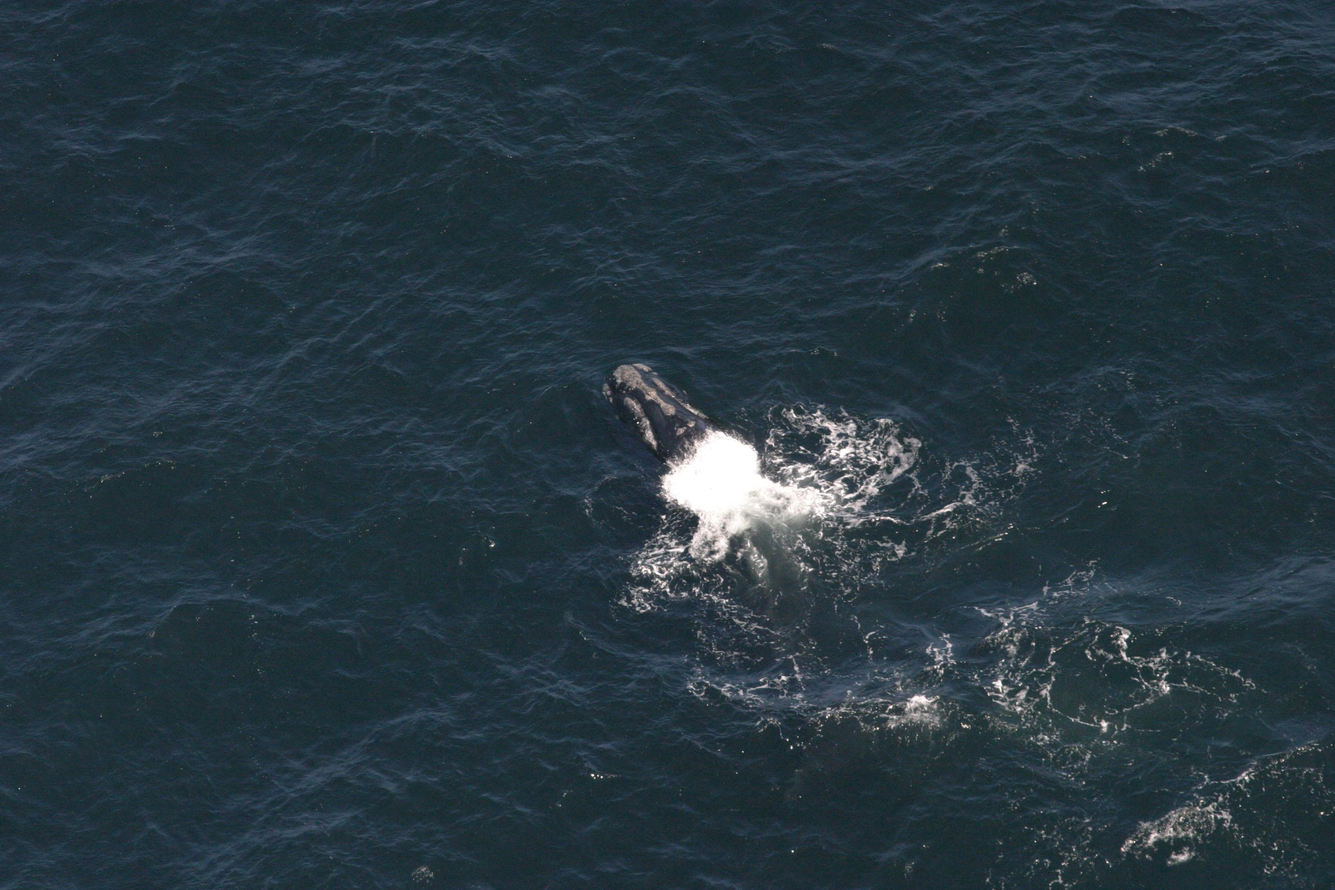whale: (593, 351, 873, 815)
